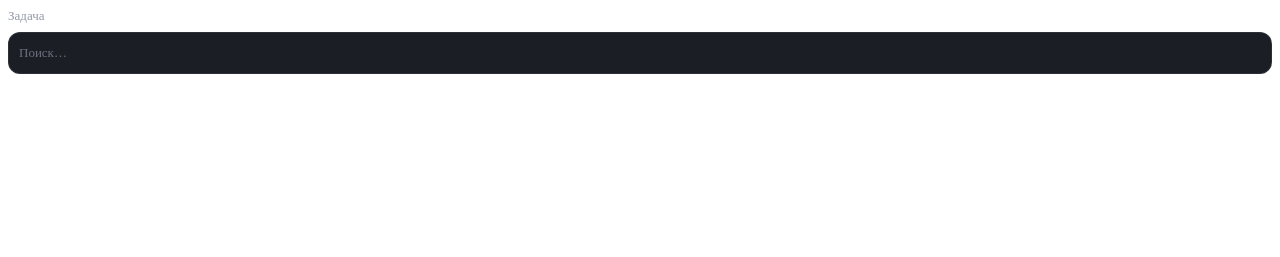
SearchHybrid › filters the menu by the typed query in chip mode
This screenshot has width=1280, height=257.
Click the field labelled "Задача": {"x": 640, "y": 53} [19,39,1261,67]
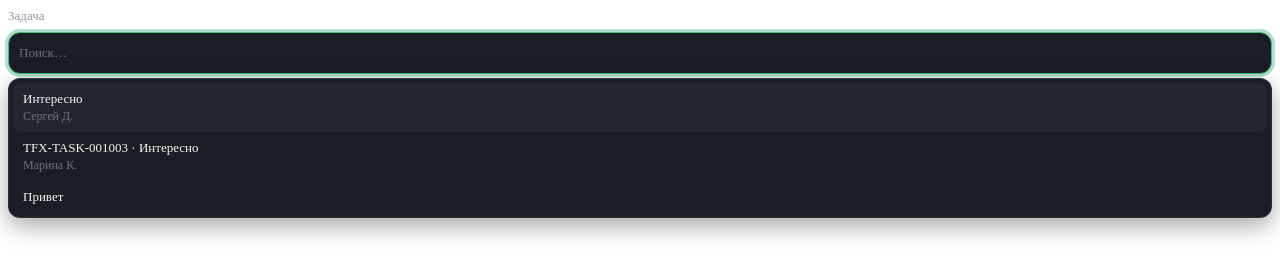
Result: the option "Привет" is shown at [13,181,1267,213]
In the field labelled "Задача": {"x": 640, "y": 53} [19,39,1261,67], type "интер"
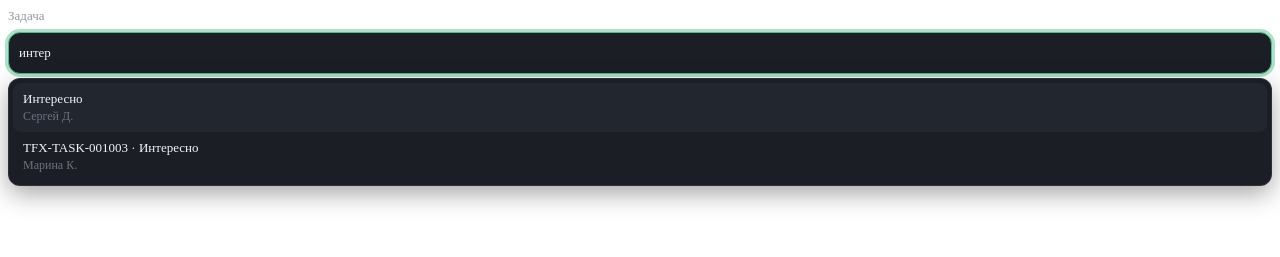
Result: the option "Интересно Сергей Д." is shown at [13,83,1267,132]
Result: the option "TFX-TASK-001003 · Интересно Марина К." is shown at [13,132,1267,181]
Result: the option "Привет" is gone
